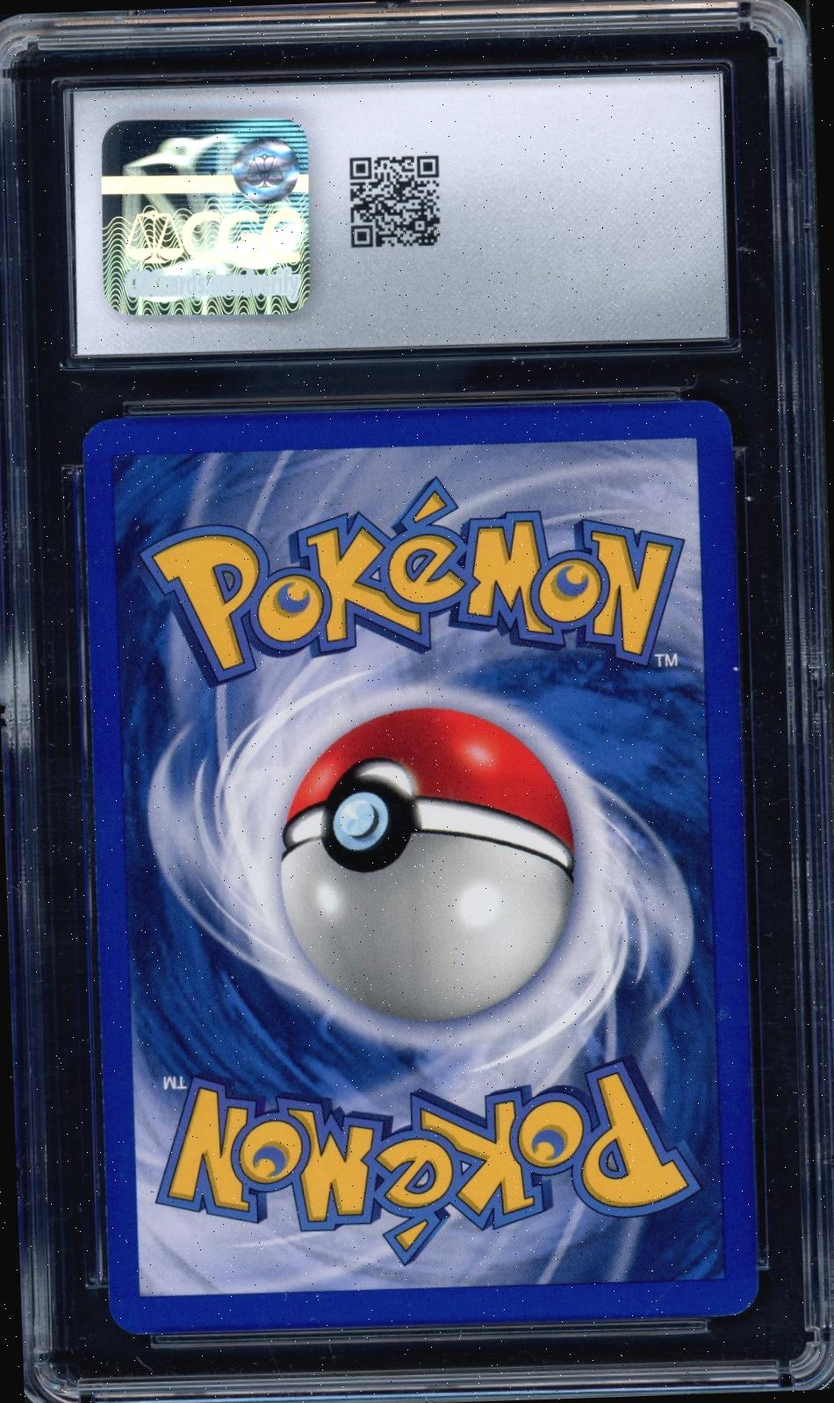card-2UtV: (82, 400, 759, 1335)
